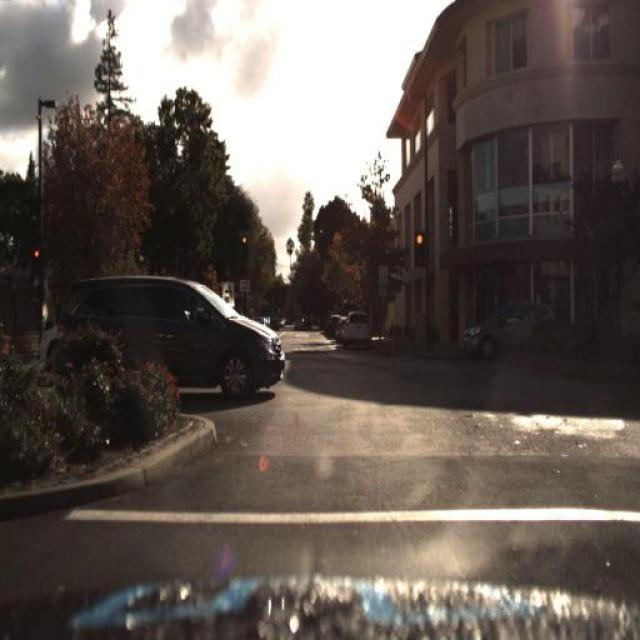car: (66, 268, 286, 391), (23, 272, 79, 381)
trafficLight-RedLeft: (411, 222, 425, 262), (31, 238, 44, 268), (239, 222, 249, 253)
